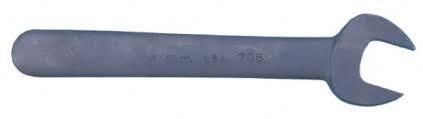wrench: (7, 10, 417, 107)
